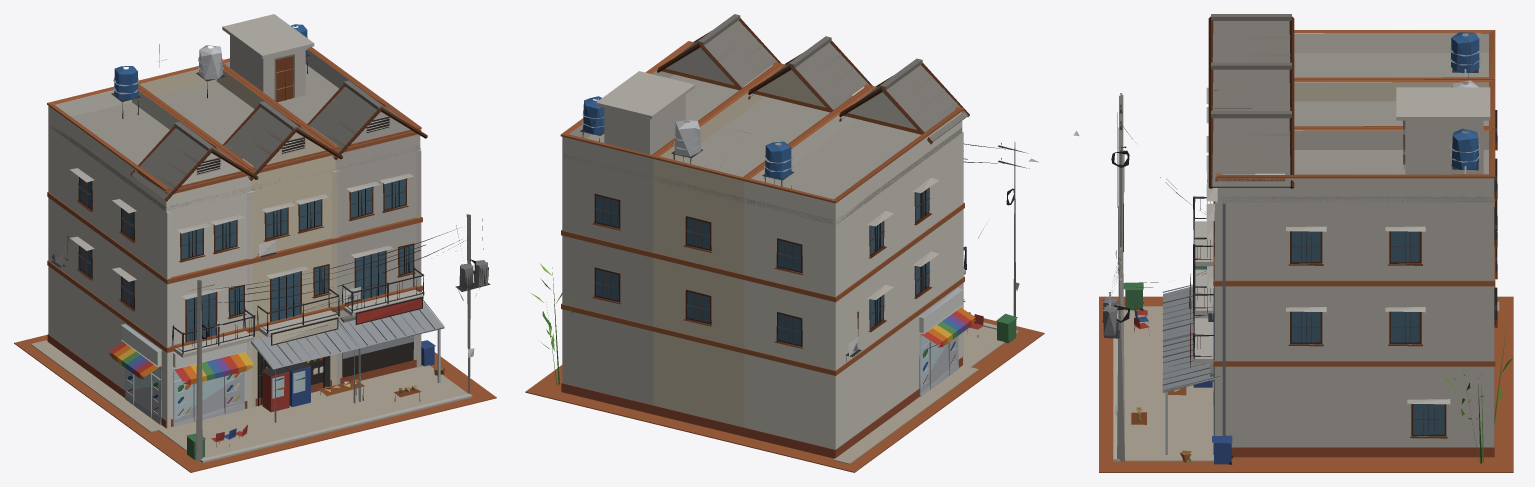
The model's file is shop_3.glb.
3 renders of one model, left to right at view 1: azimuth 30°, elevation 25°; view 2: azimuth 150°, elevation 25°; view 3: azimuth 270°, elevation 25°, orthographic. The views are drawn at different scales.
Visible parts, largest first — view 1: body, windows; view 2: body, windows; view 3: body, windows.
Part boxes in pixels (<box>): body: <box>14,14,496,472</box>; windows: <box>79,116,413,397</box>; body: <box>525,14,1044,472</box>; windows: <box>596,188,928,344</box>; body: <box>1073,14,1513,472</box>; windows: <box>1292,180,1495,434</box>.
Size of the model in its own units: 16.46 by 14.28 by 17.14.
